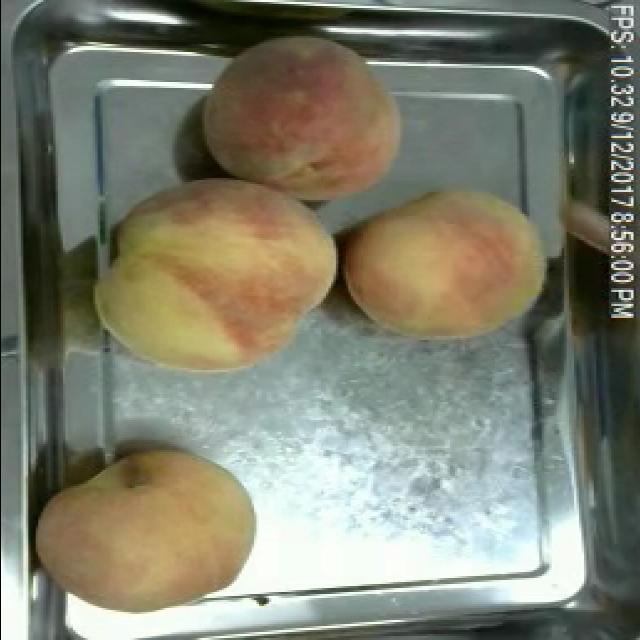Fruit: (87, 166, 347, 384), (28, 438, 266, 628), (190, 18, 414, 216), (338, 178, 558, 352)
